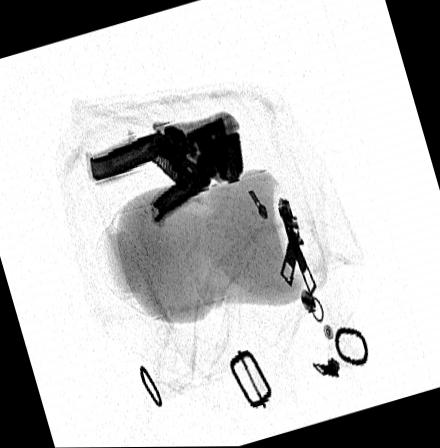Pliers: (86, 114, 242, 224)
